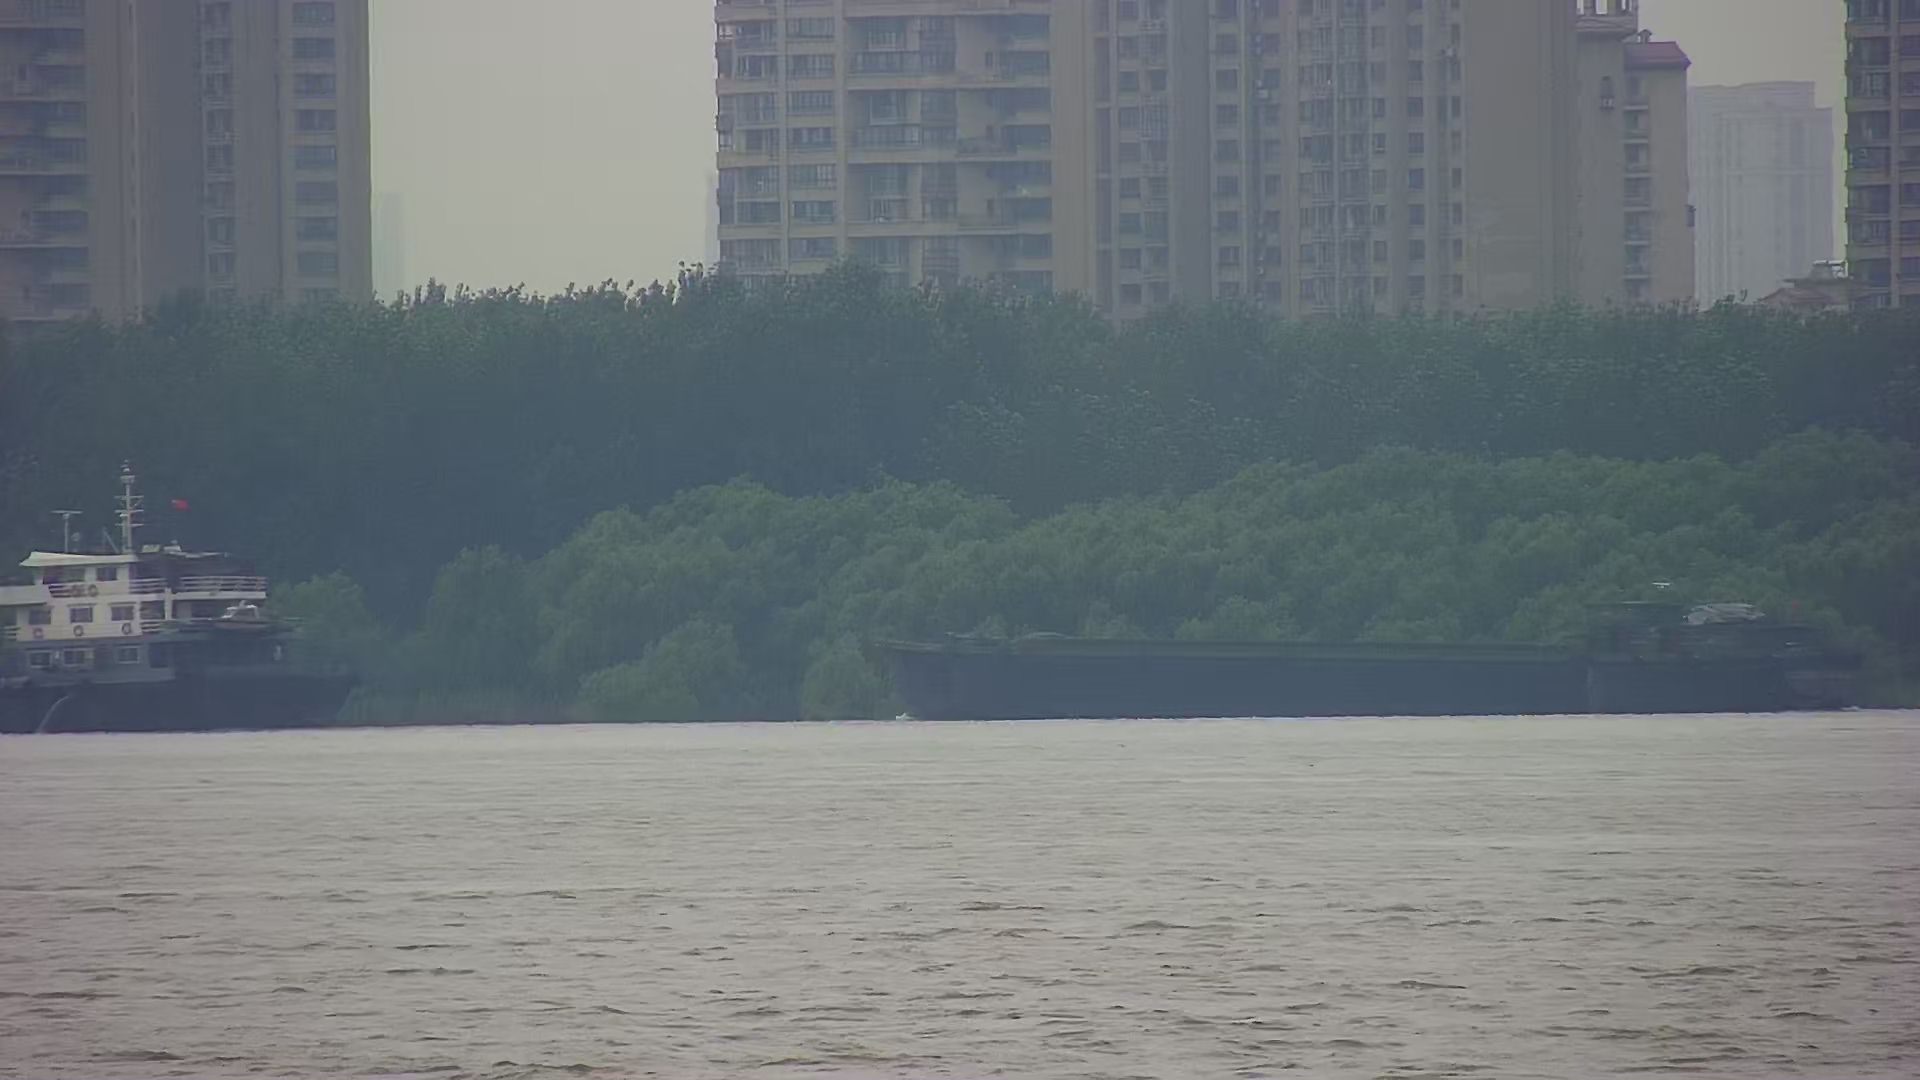ship: (876, 595, 1871, 724), (1, 459, 360, 733)
